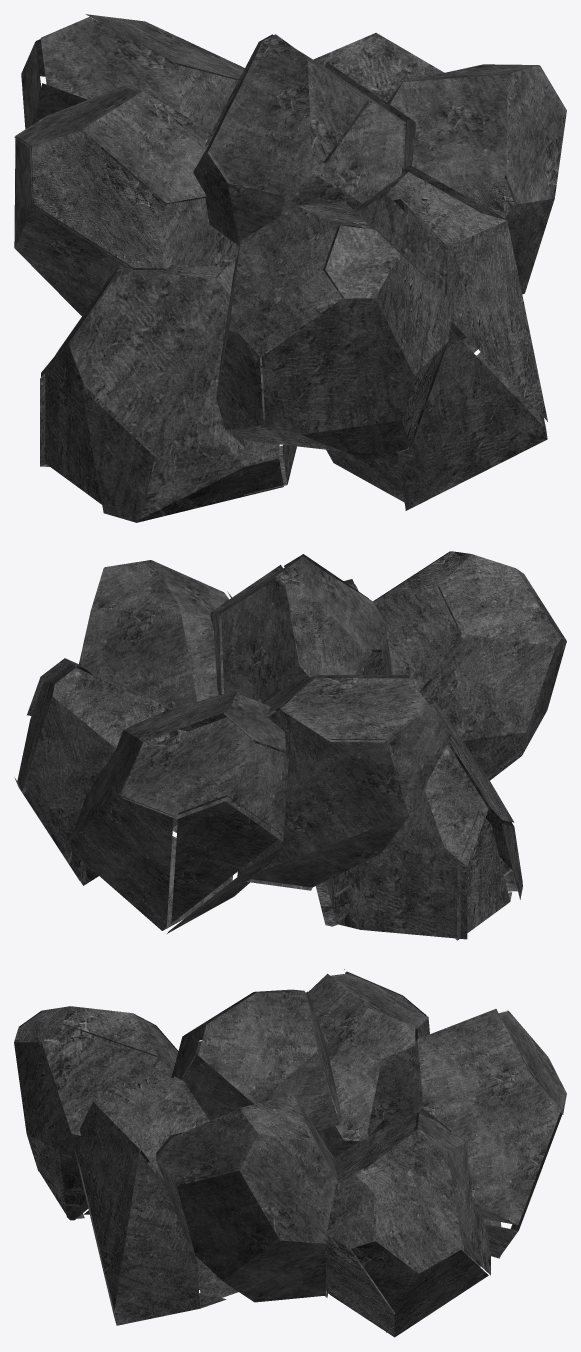
Rendered from Stone2.obj.
The picture shows the model from 3 angles, top to bottom: view 1: azimuth 30°, elevation 25°; view 2: azimuth 150°, elevation 25°; view 3: azimuth 270°, elevation 25°; orthographic projection. The views are drawn at different scales.
Visible parts, largest first — view 1: Object015; view 2: Object015; view 3: Object015.
Boxes of the visible parts, x1,y1,x2,y2 form: Object015: [14, 14, 566, 522]; Object015: [14, 551, 566, 940]; Object015: [14, 969, 566, 1337].
Size of the model in its own units: 168 by 130 by 212.
1 material, 1 textured.
